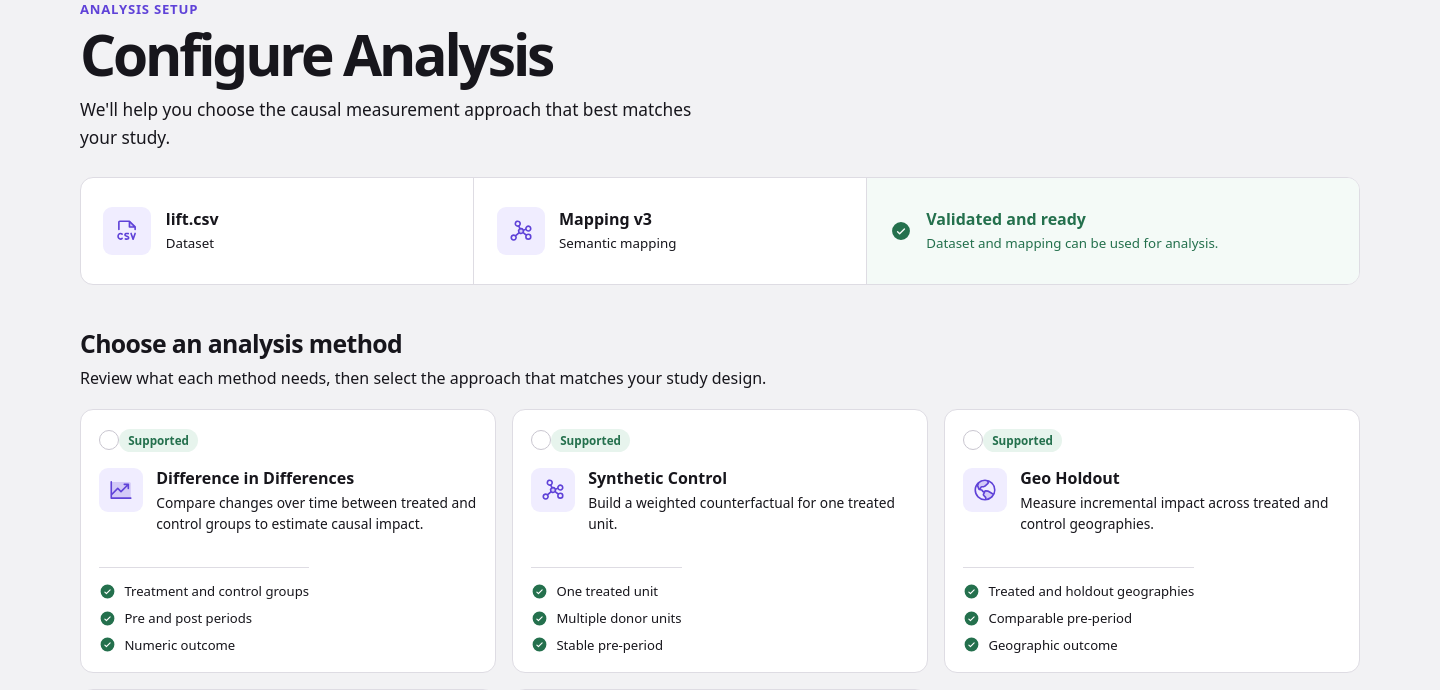
Scenario: Analysis Configuration estimator selection › moves treatment-based estimators to an analysis period step
This screenshot has width=1440, height=690.
Click the button "Difference in Differences": [159, 440] box [80,409,496,673]
(page scrolled)
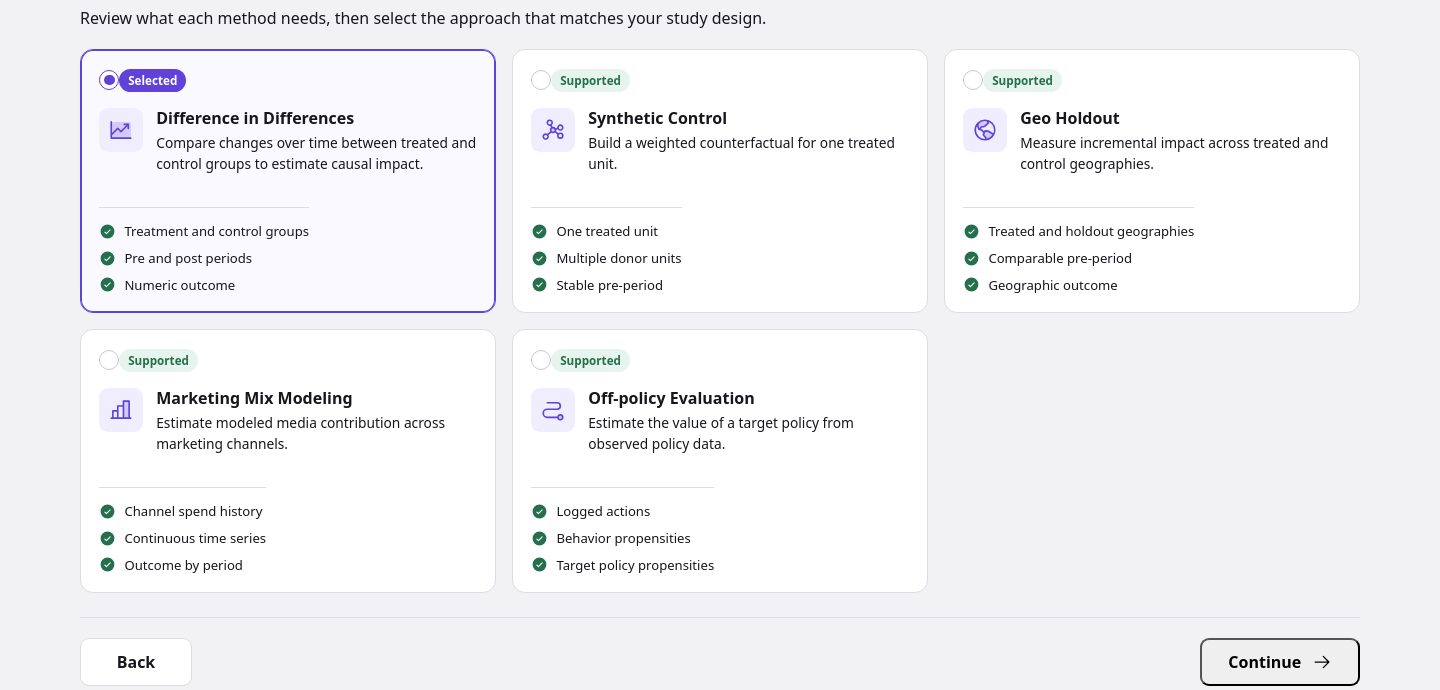
Click the button "Continue": [1280, 662] box [1200,638,1360,686]
(page scrolled)
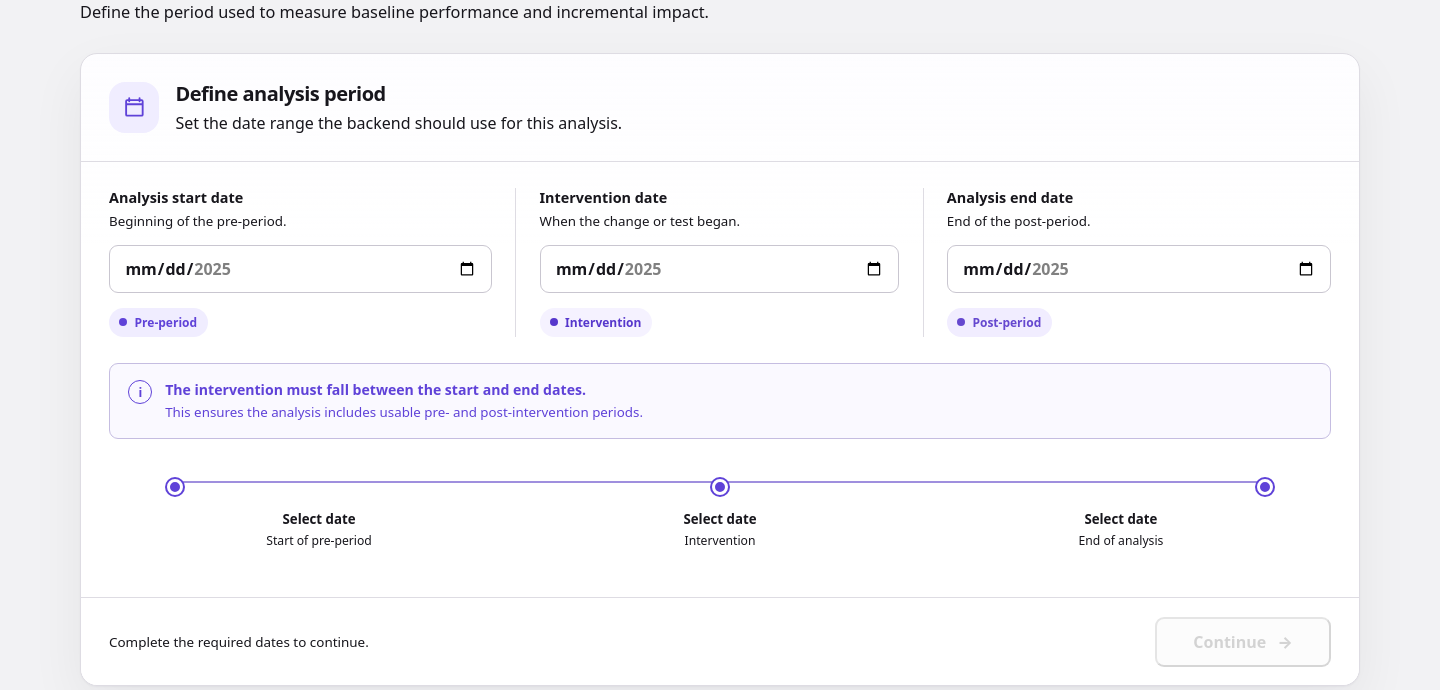
Expected: the heading "Define analysis period" is shown, [175,80,386,107]
